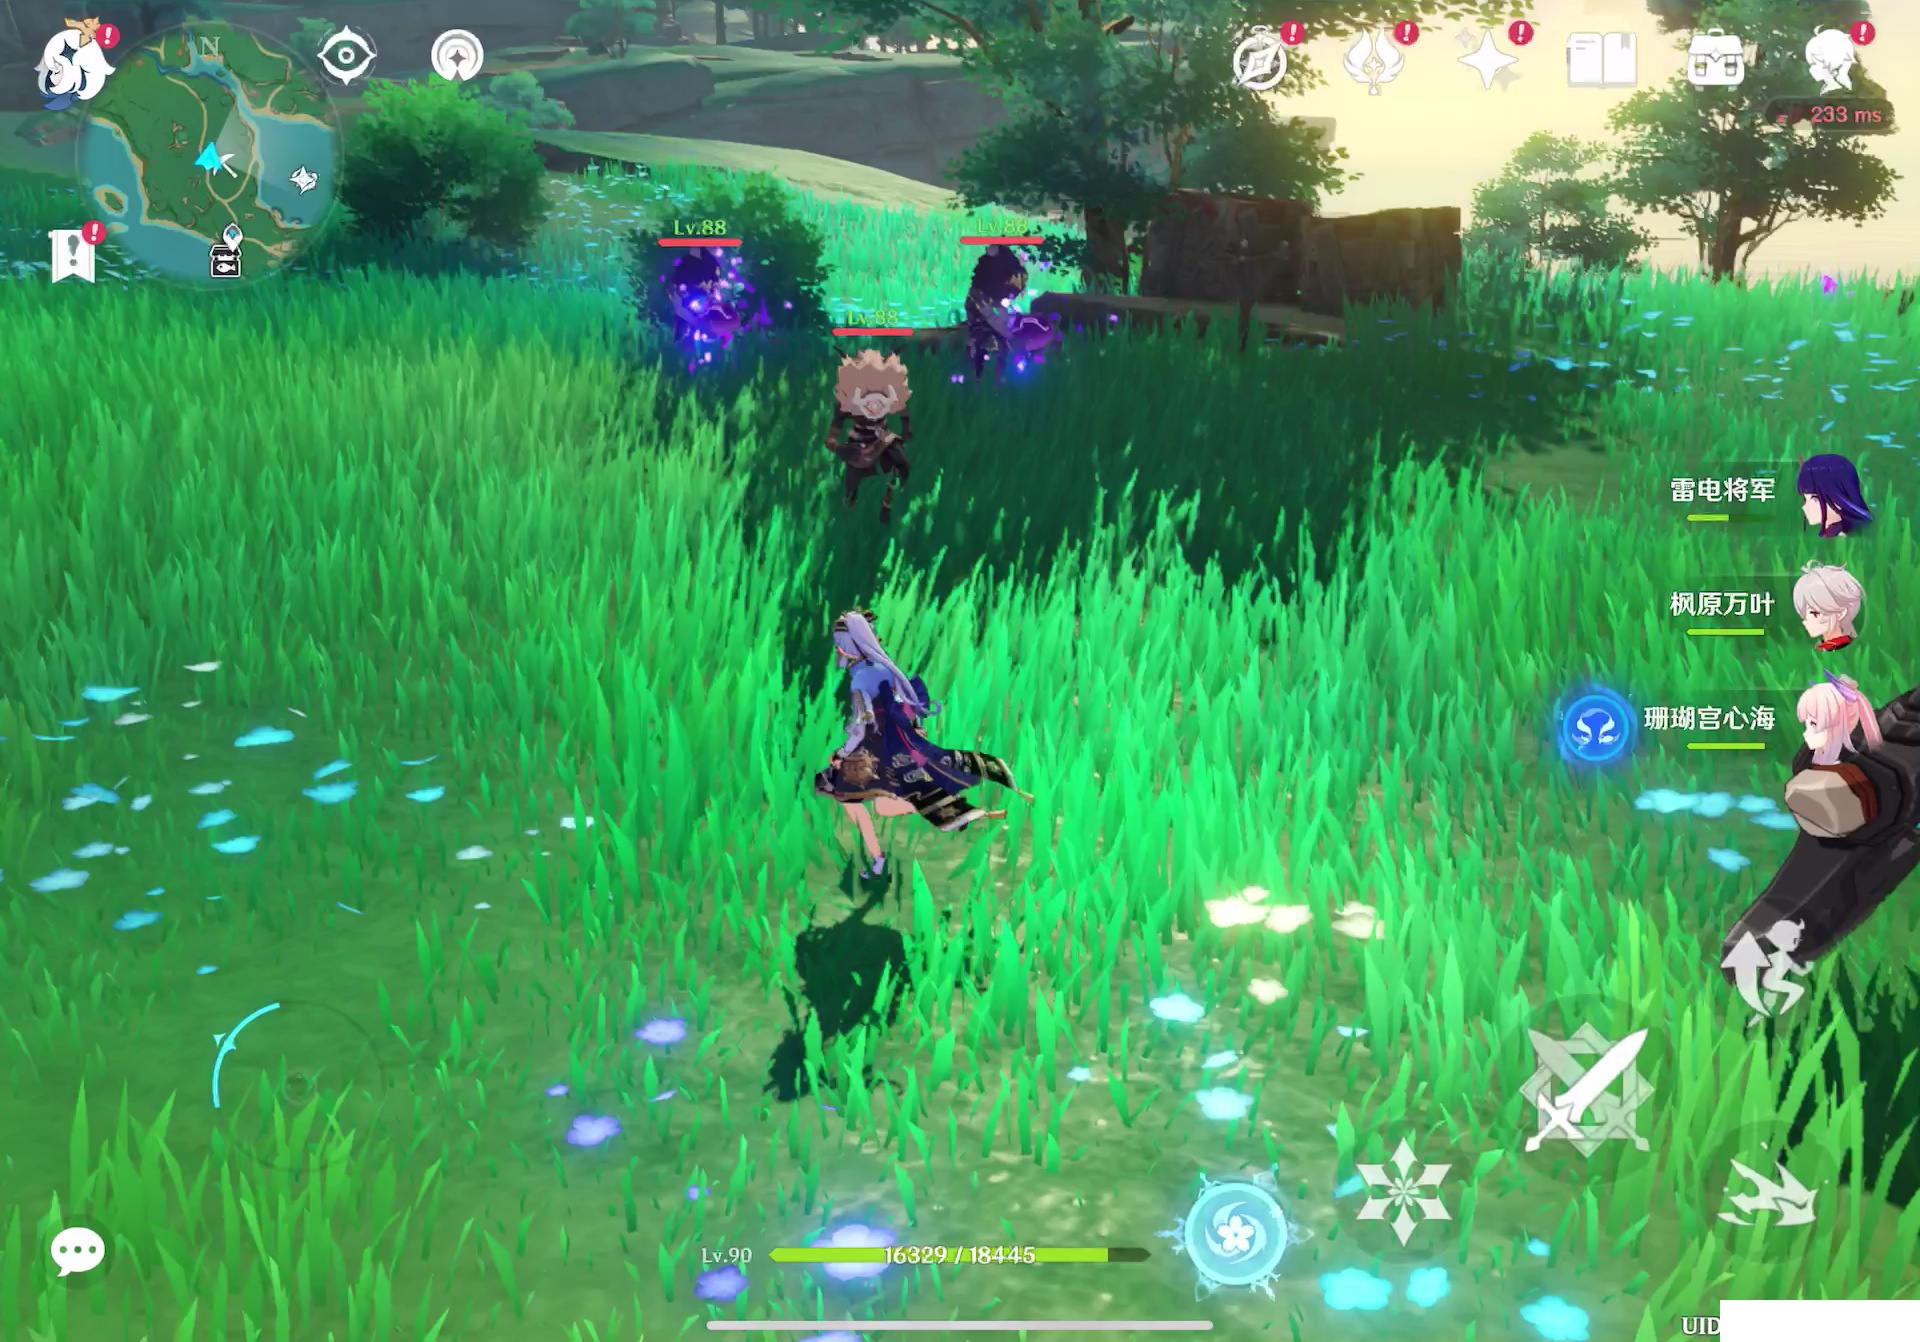丘丘人: (821, 346, 928, 500), (953, 244, 1049, 382), (667, 252, 766, 362)
神里绫龟: (811, 611, 980, 849)
